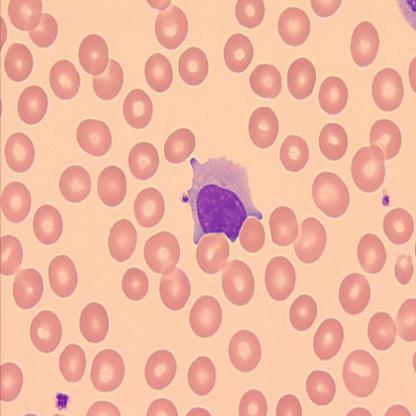Lymphocyte: (179, 156, 263, 245)
